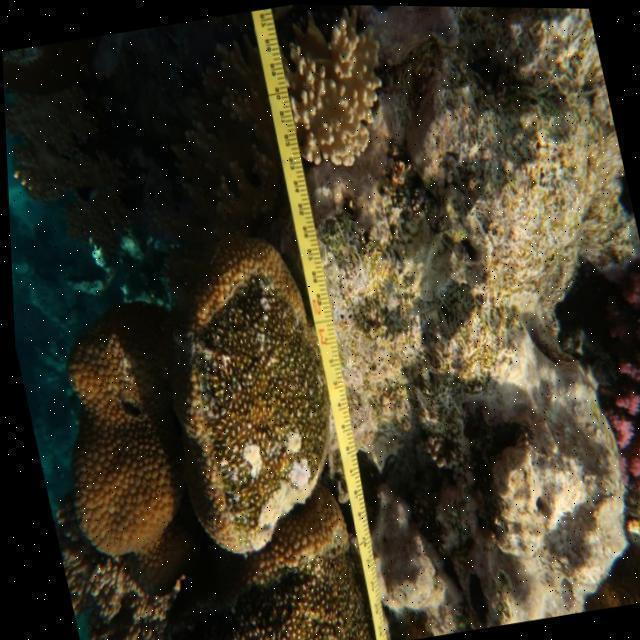Bleached Coral: (262, 3, 410, 181)
Healthy Coral: (141, 231, 368, 549), (30, 311, 212, 593), (156, 510, 374, 640), (569, 262, 640, 521)
